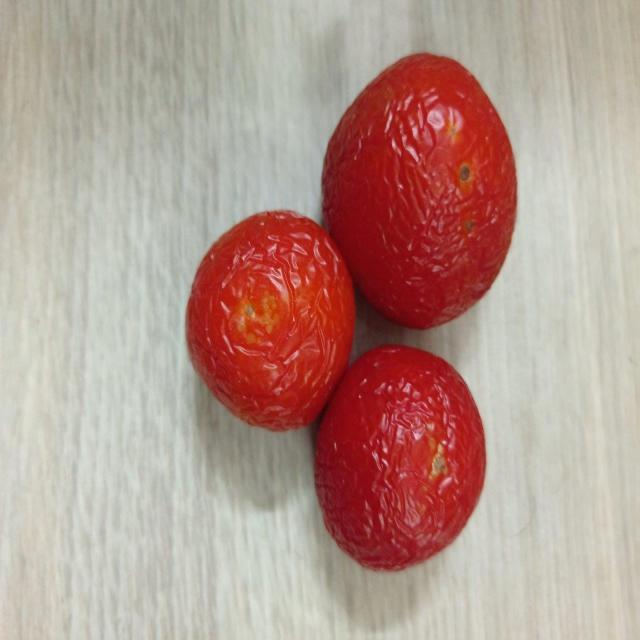overripe: (319, 49, 520, 334), (316, 345, 488, 570), (184, 208, 358, 430)
